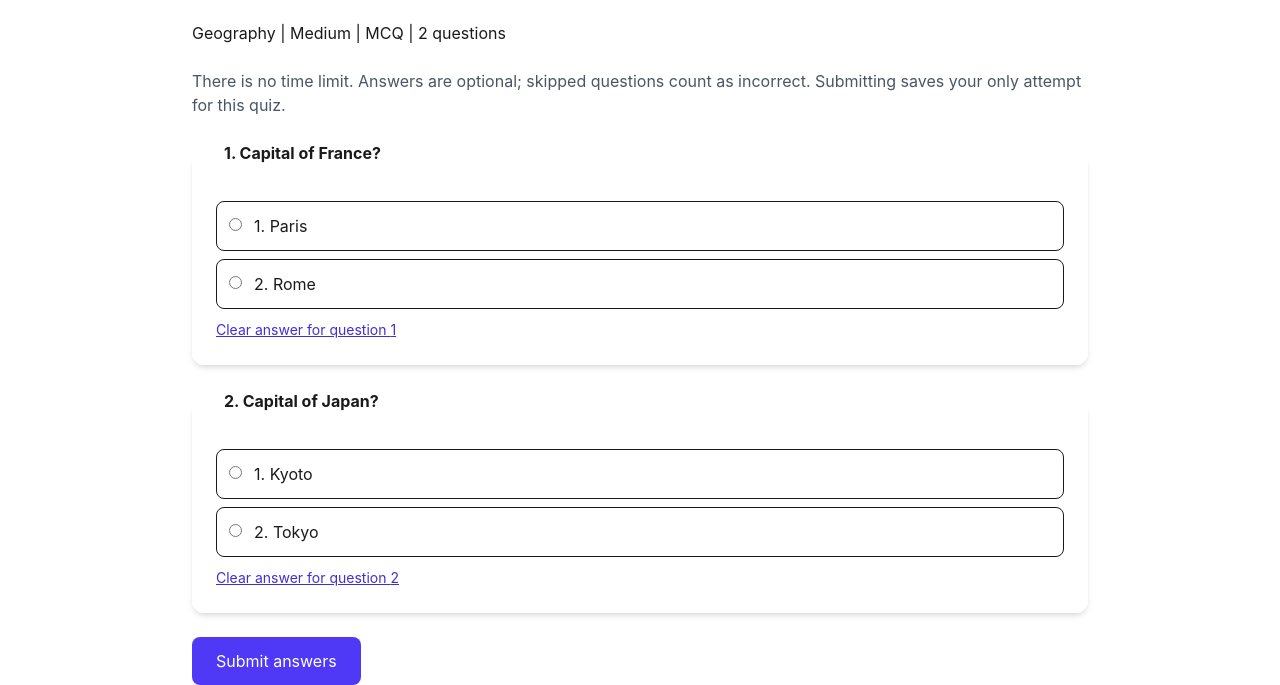
Test: taking and reviewing quizzes › keeps the saved review visible when account refresh fails
Click the button "Submit answers" at (276, 661), box x1=192 y1=637 x2=361 y2=684
(page scrolled)
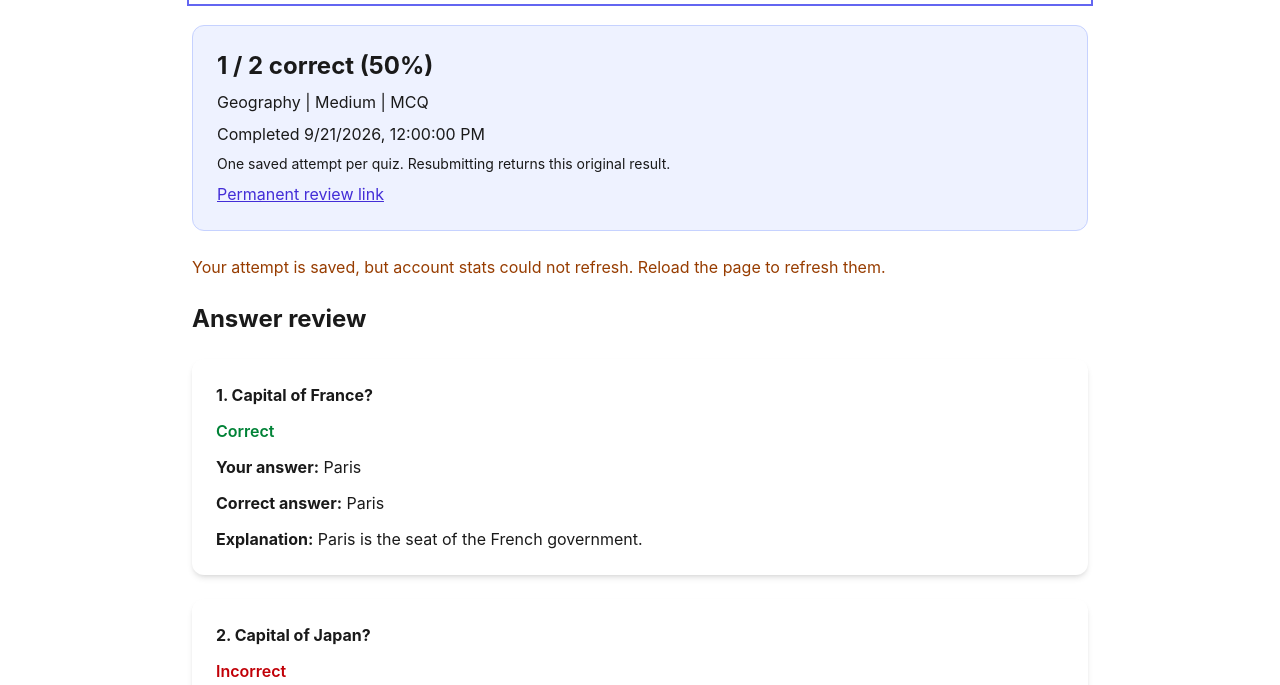
Expected: the message shows "Your attempt is saved, but account stats could not refresh.", x1=192 y1=257 x2=886 y2=277
Expected: the element named "Saved result" shows "1 / 2 correct (50%)", x1=192 y1=25 x2=1088 y2=231
Expected: the link "Permanent review link" is shown, x1=217 y1=182 x2=384 y2=206
